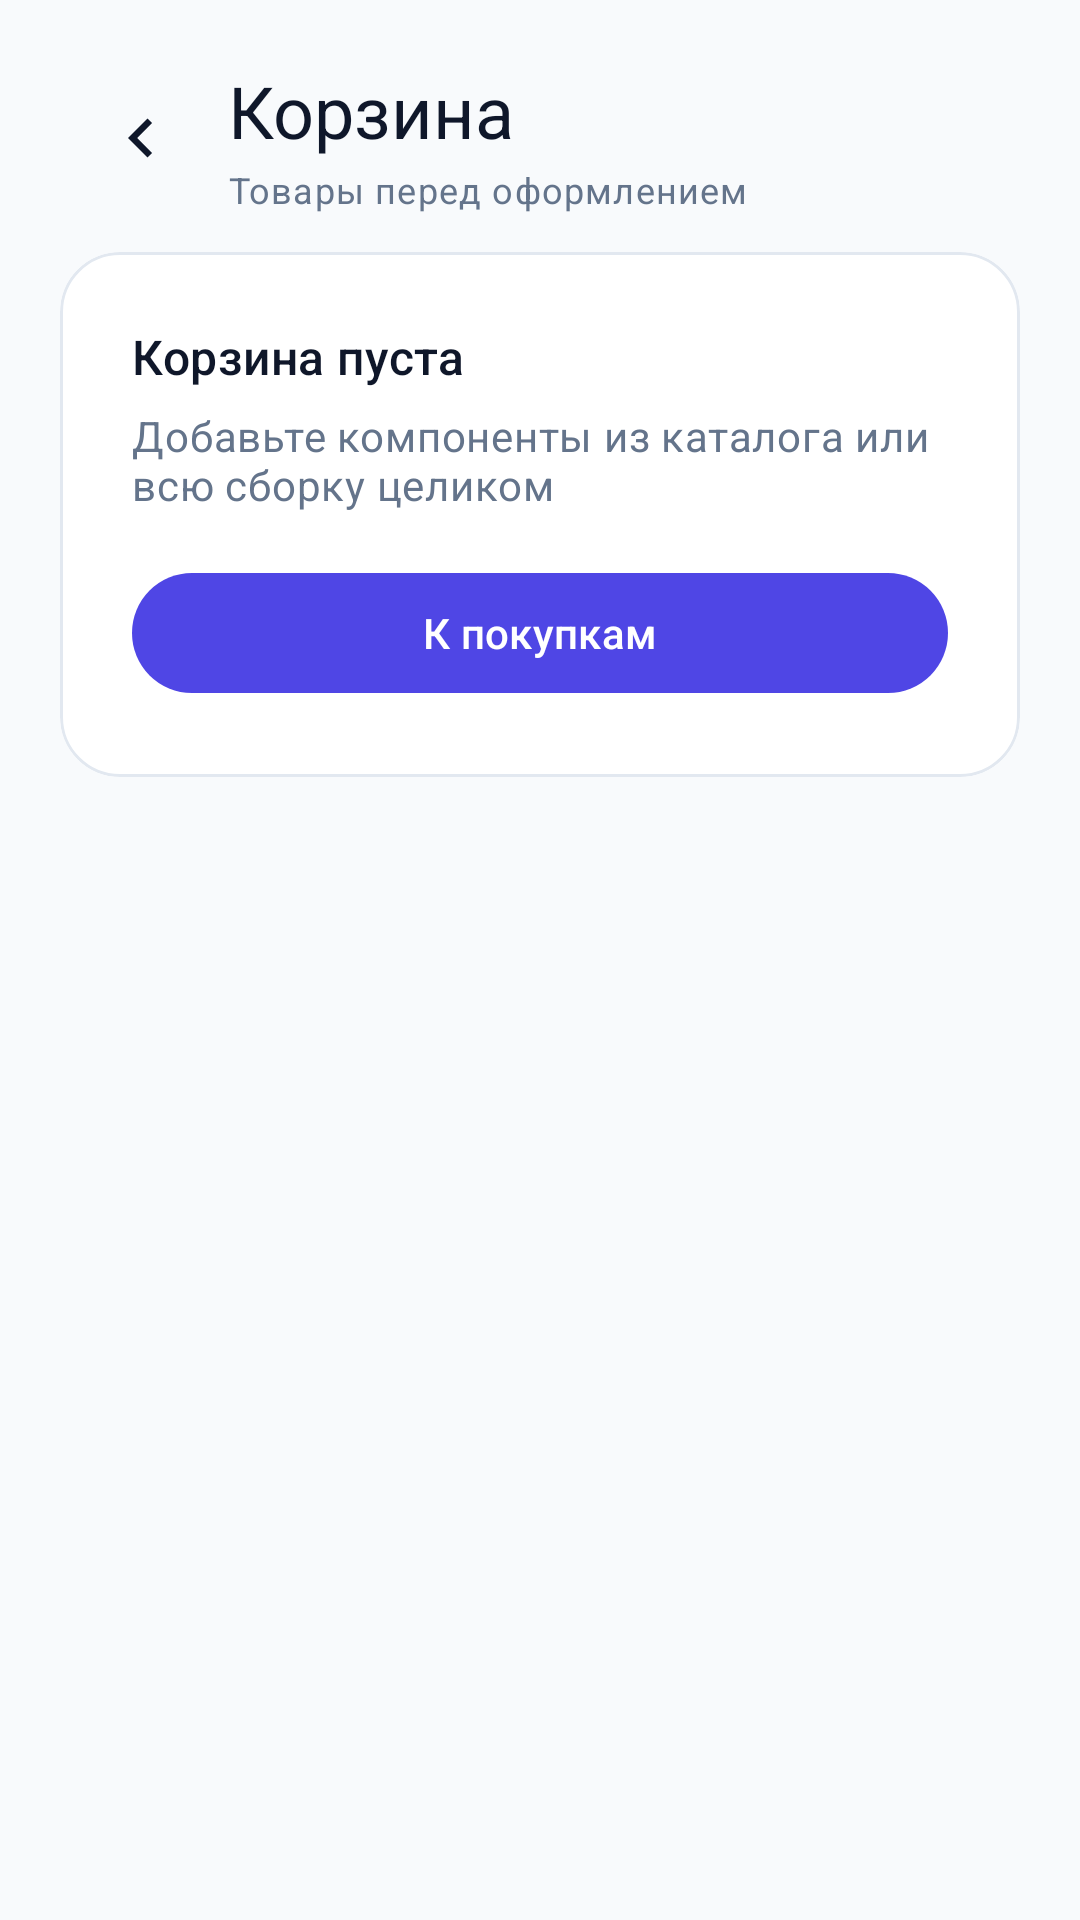

Named icons in this screenshot (1080×1920) and their bounding boxes, (x1, y1, x2, y2):
Назад к сборкам: (128, 118, 152, 158)
